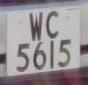1: (48, 39, 59, 73)
5: (15, 39, 32, 76), (56, 39, 74, 71)
6: (31, 41, 49, 74)
C: (43, 7, 63, 42)
W: (26, 8, 45, 45)
